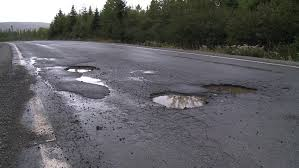pothole: (144, 85, 215, 117), (203, 76, 265, 102), (58, 59, 106, 77)
